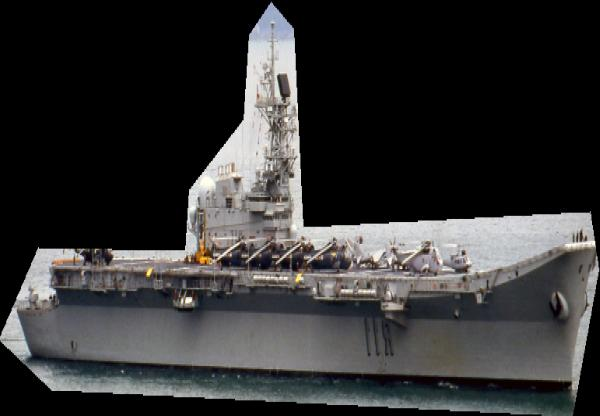Aircraft Carrier: (0, 1, 599, 416)
